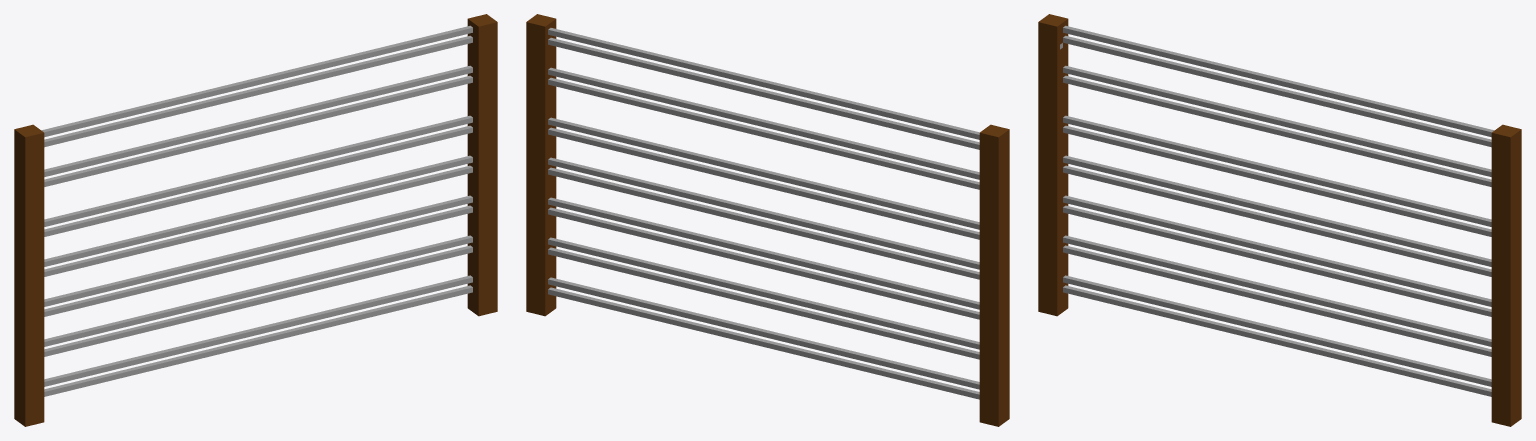
File: Zabor.obj
3 renders of one model, left to right at view 1: azimuth 30°, elevation 25°; view 2: azimuth 150°, elevation 25°; view 3: azimuth 330°, elevation 25°, orthographic.
Size of the model in its own units: 9.9 by 5.8 by 0.4.
